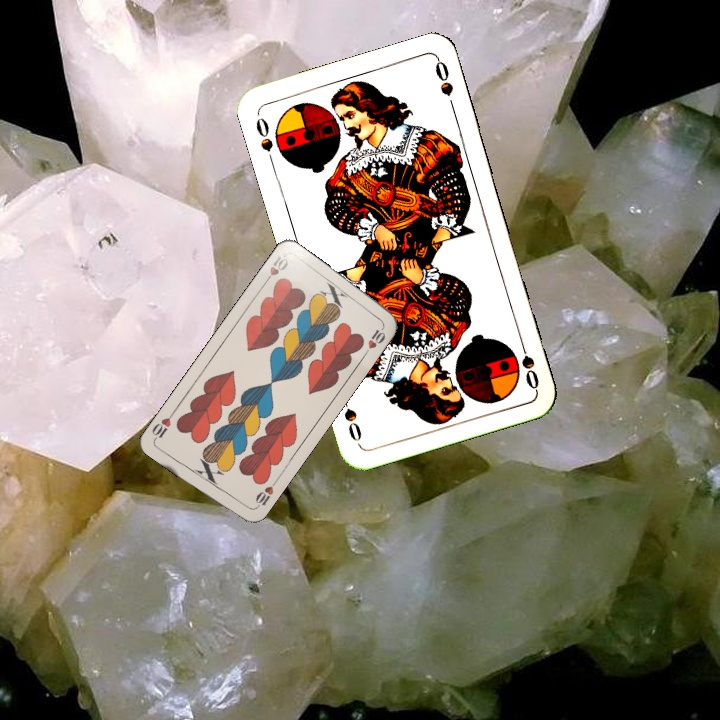H10: (260, 251, 291, 287), (250, 477, 279, 512)
SO: (511, 334, 542, 392), (251, 113, 277, 169)
